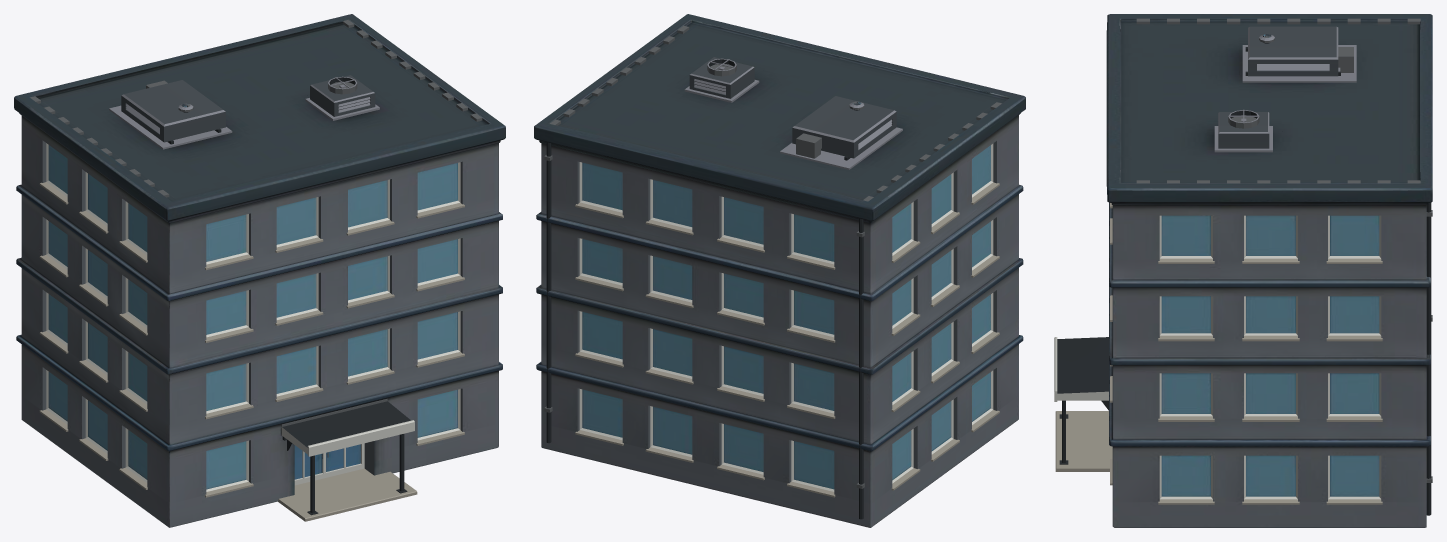
Rendered from office-apartment.glb.
3 renders of one model, left to right at view 1: azimuth 30°, elevation 25°; view 2: azimuth 150°, elevation 25°; view 3: azimuth 270°, elevation 25°, orthographic. The views are drawn at different scales.
Parts seen in each view (by area): view 1: Office-apartmentBody; view 2: Office-apartmentBody; view 3: Office-apartmentBody.
Boxes of the visible parts, box(x1,y1,x2,y2) form: Office-apartmentBody: box(14, 14, 505, 527); Office-apartmentBody: box(534, 14, 1025, 527); Office-apartmentBody: box(1054, 14, 1432, 527).
Bounding box in the file's own units: 16.5 × 16.1 × 15.
Materials: 1 (1 with a texture image).
